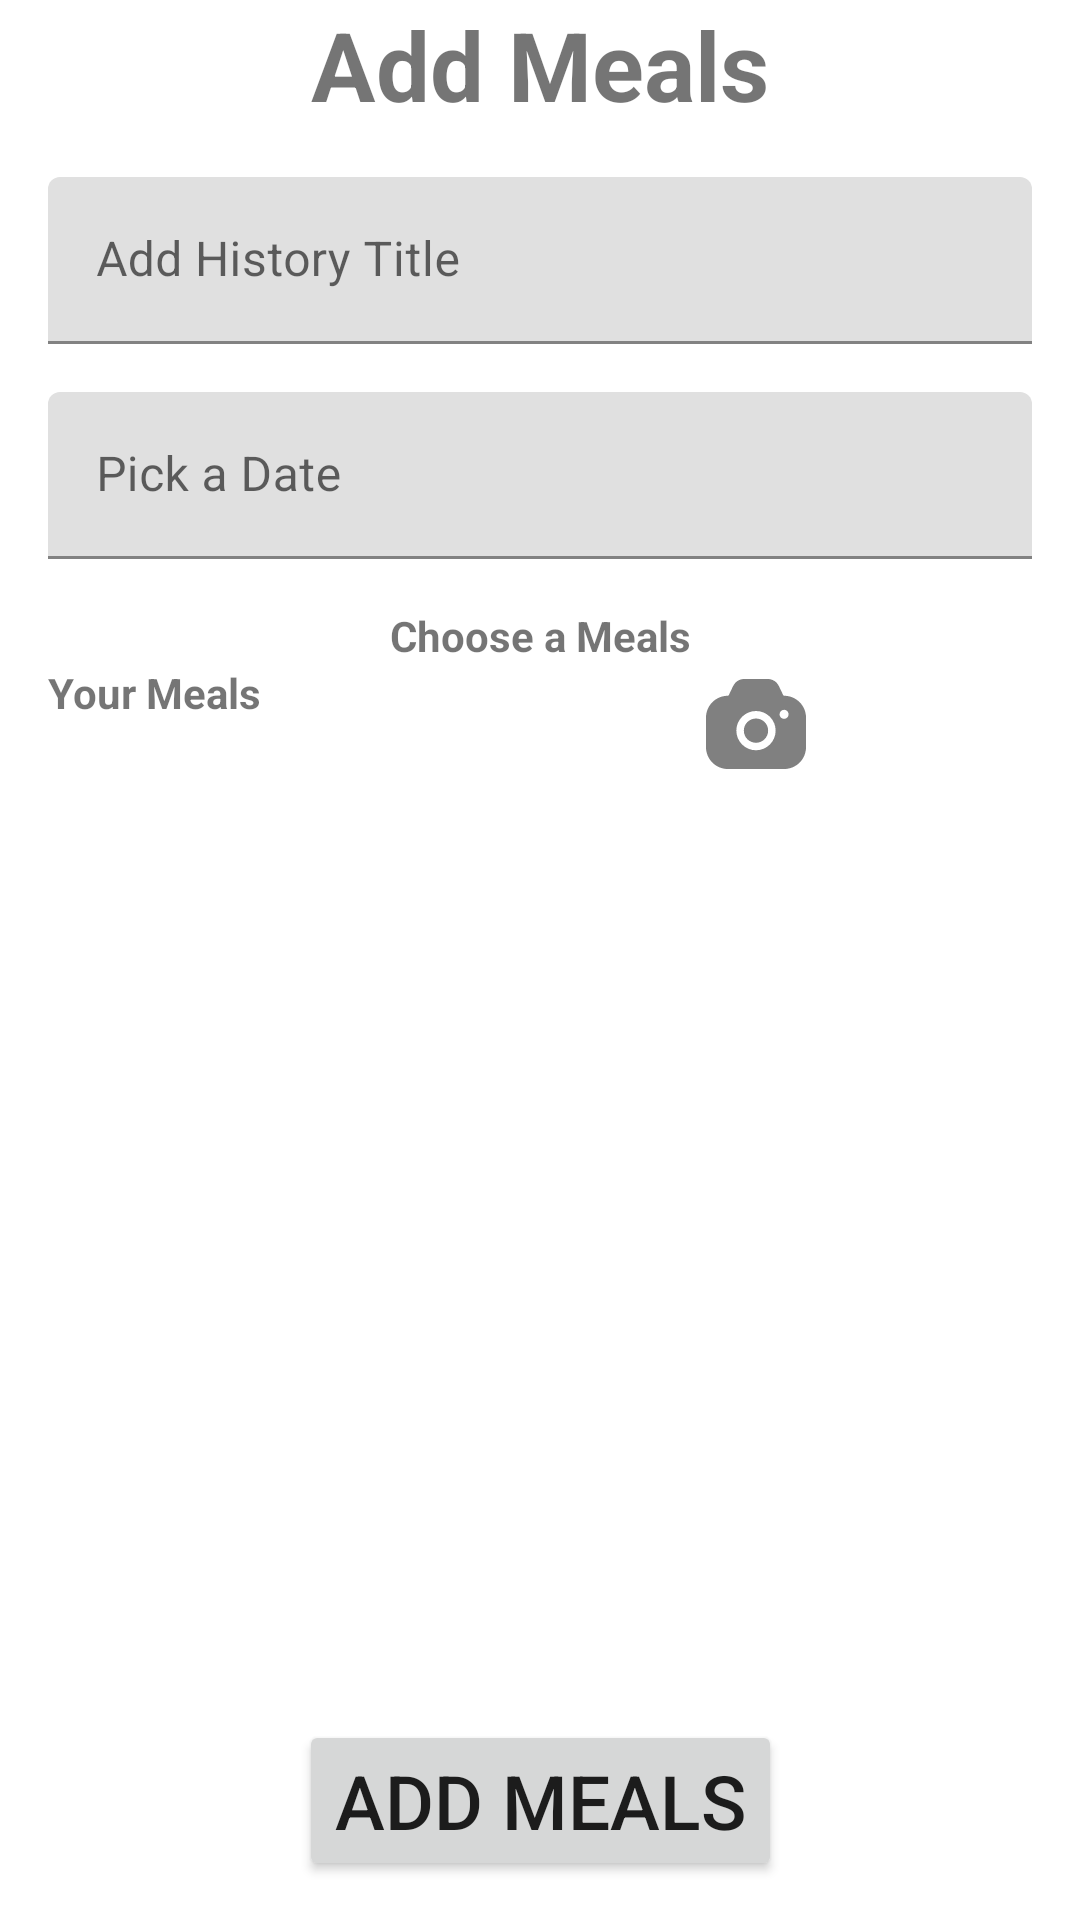

Named icons in this screenshot (1080 x 1920) and their bounding boxes, {"left": x1, "top": y1, "right": x2, "bottom": y2}:
Scan: {"left": 706, "top": 679, "right": 806, "bottom": 769}
